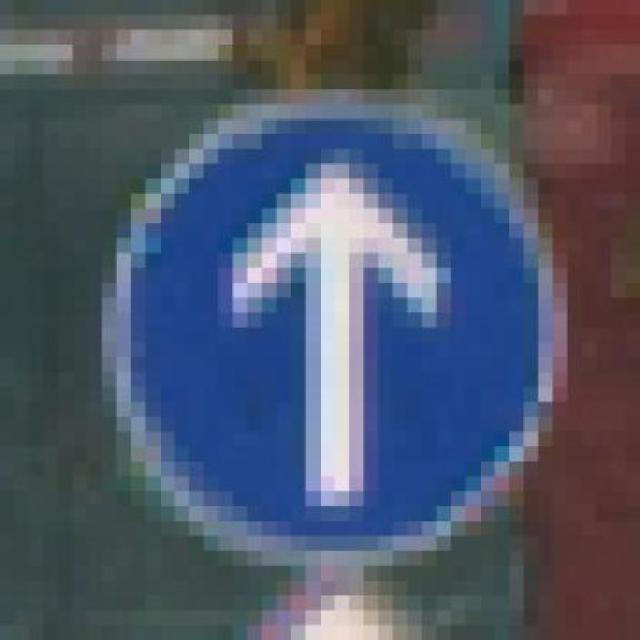Straight Ahead Only: (87, 89, 582, 566)
